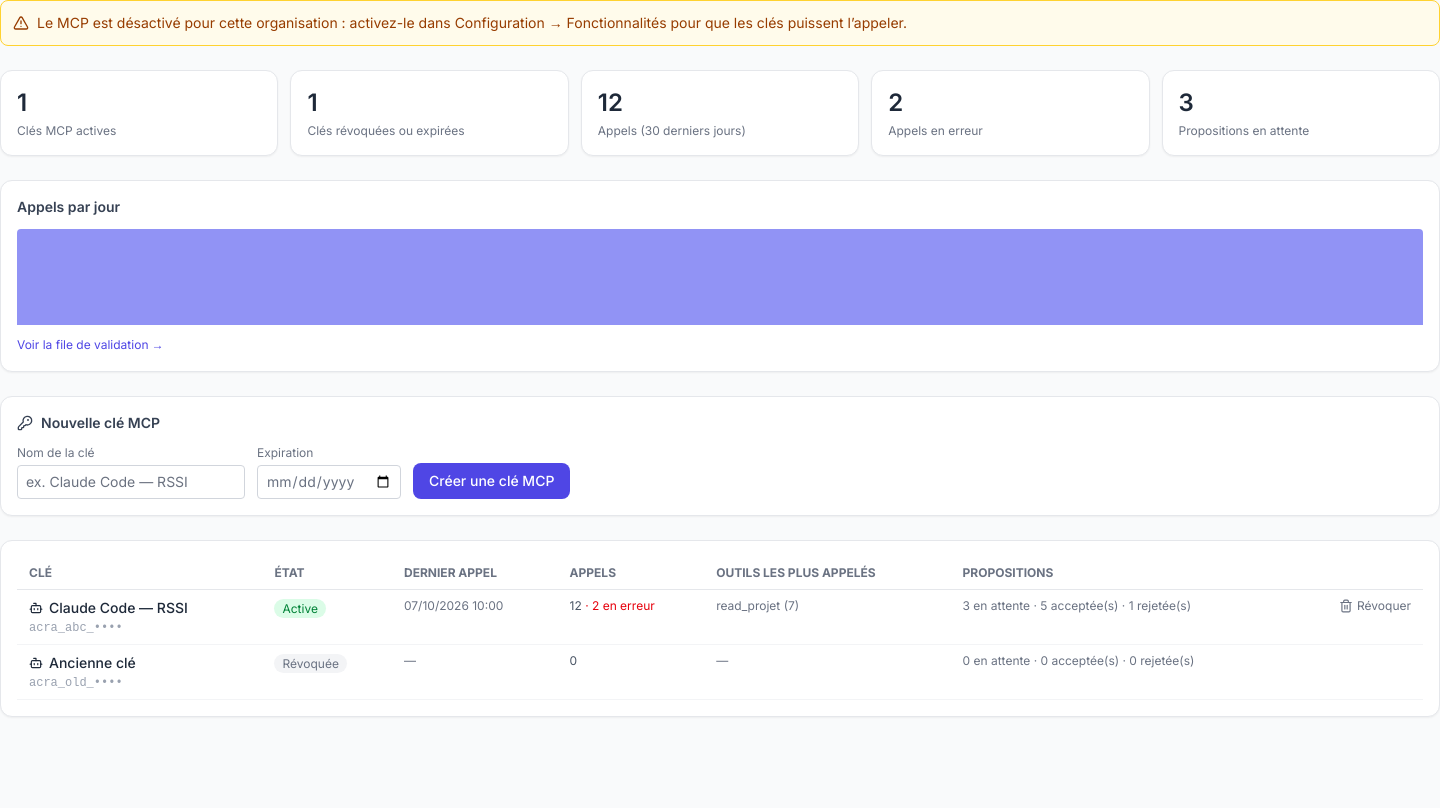
McpActivity › créer une clé MCP : seul droit mcp (moindre privilège), secret montré une fois avec la commande de connexion
Expected: the text "Claude Code — RSSI" is shown, 29,598 -> 188,618
Type "Codex — analyste" into the field labelled "Nom de la clé" at (131, 482), box 17,465 -> 245,499
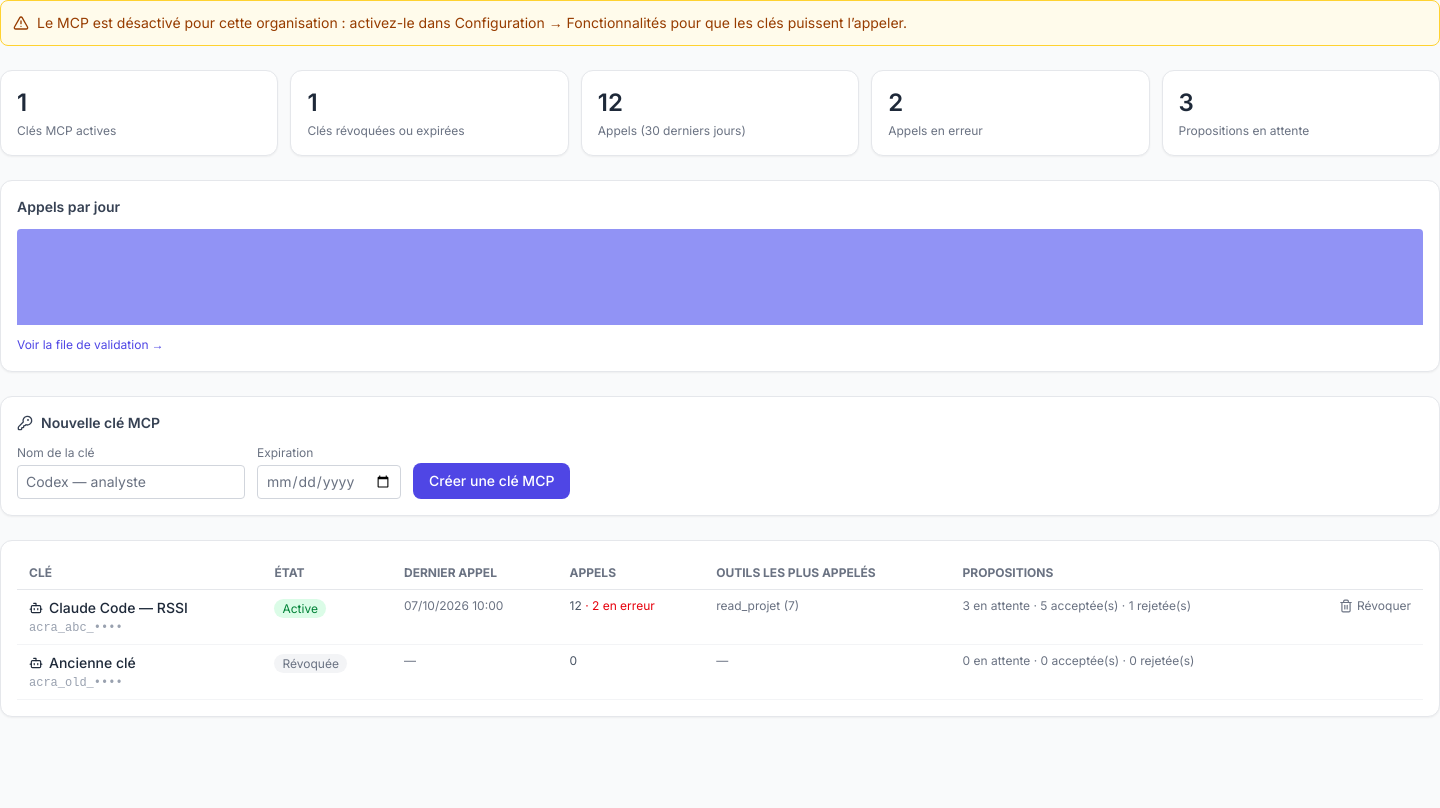
Click the button "Créer une clé MCP" at (492, 481), box 413,463 -> 570,499
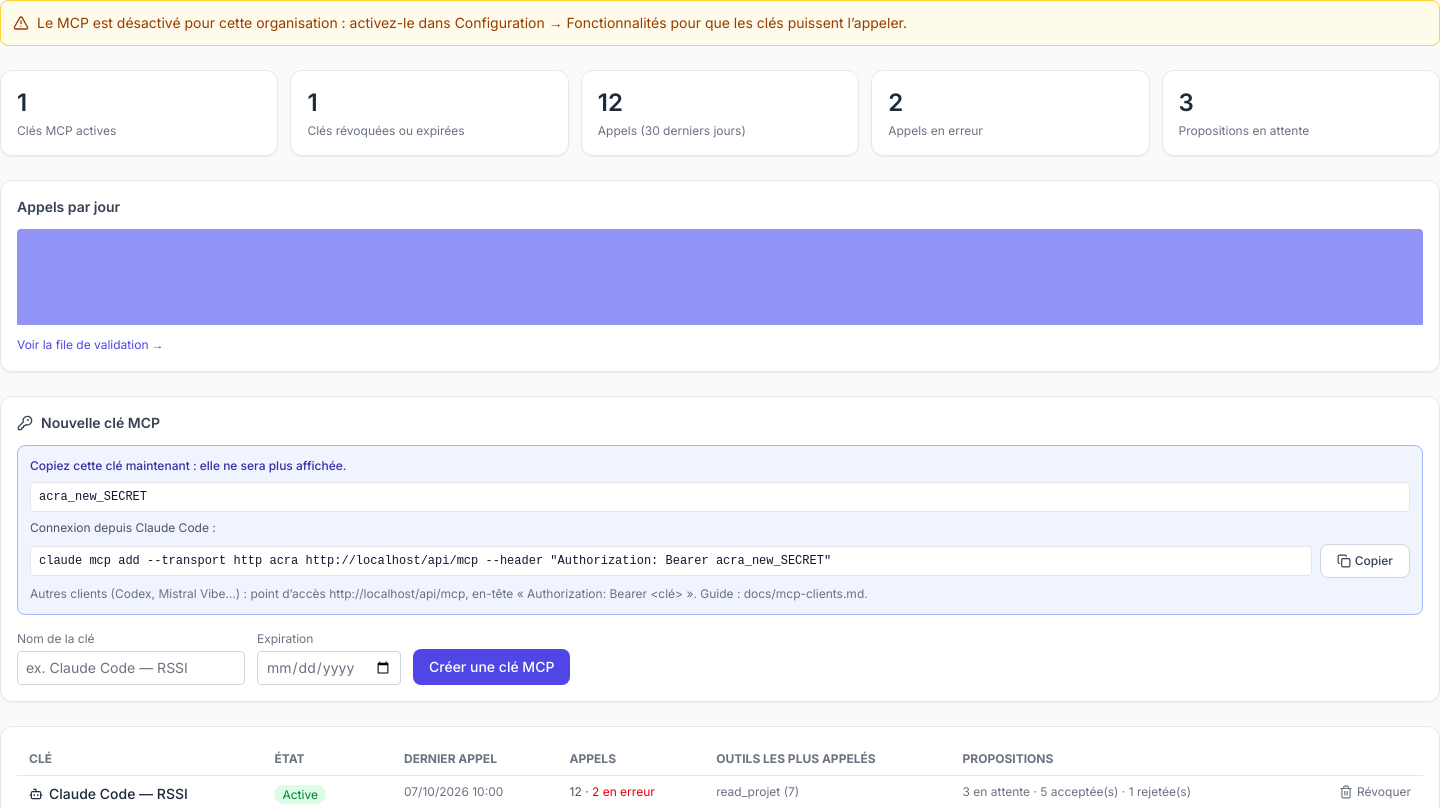
Now the text "acra_new_SECRET" is shown, box 30,482 -> 1410,512
